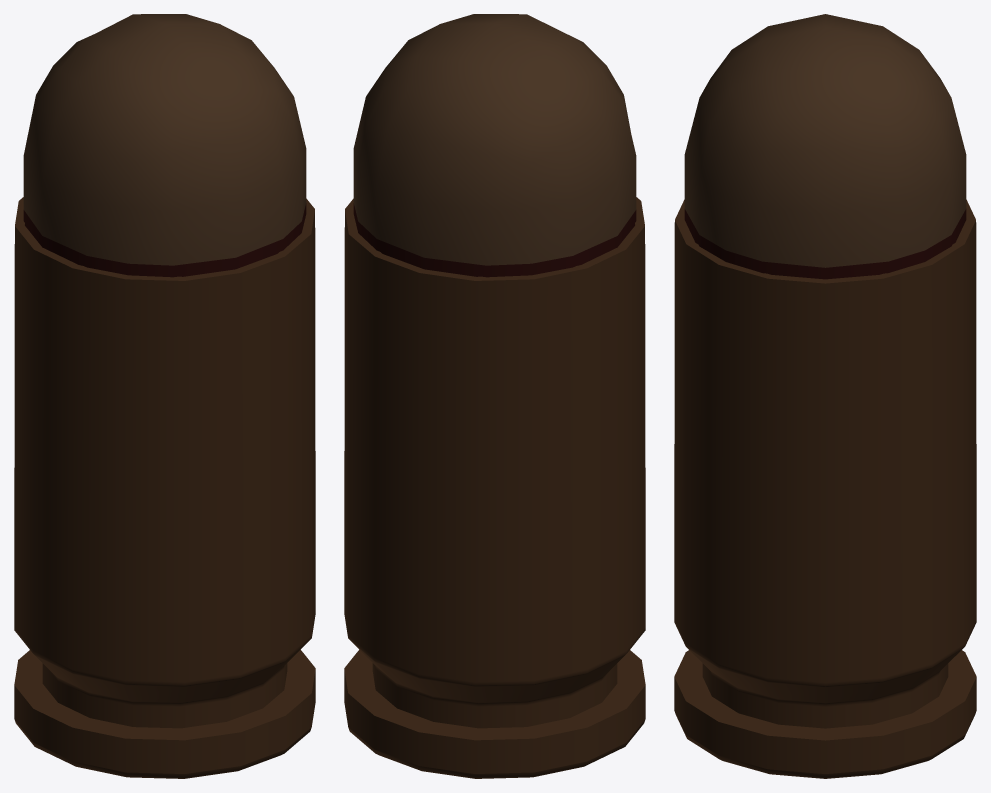
The model's file is Bullet.FBX.
The picture shows the model from 3 angles, left to right: view 1: azimuth 30°, elevation 25°; view 2: azimuth 150°, elevation 25°; view 3: azimuth 270°, elevation 25°; orthographic projection.
Parts seen in each view (by area): view 1: shell_casing, bullet; view 2: shell_casing, bullet; view 3: shell_casing, bullet.
Boxes of the visible parts, x1,y1,x2,y2 form: shell_casing: [14, 197, 315, 778]; bullet: [23, 14, 306, 277]; shell_casing: [344, 197, 645, 778]; bullet: [353, 14, 636, 277]; shell_casing: [674, 199, 976, 778]; bullet: [684, 14, 966, 279].
Bounding box in the file's own units: 0.9771 × 2.46 × 0.9771.
